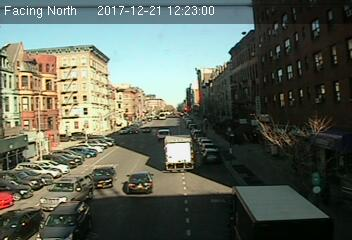car: (35, 201, 92, 240), (39, 173, 91, 210), (125, 172, 156, 194), (91, 166, 116, 189), (203, 150, 224, 166)
truck: (164, 135, 196, 171)
ups: (227, 184, 338, 240)
